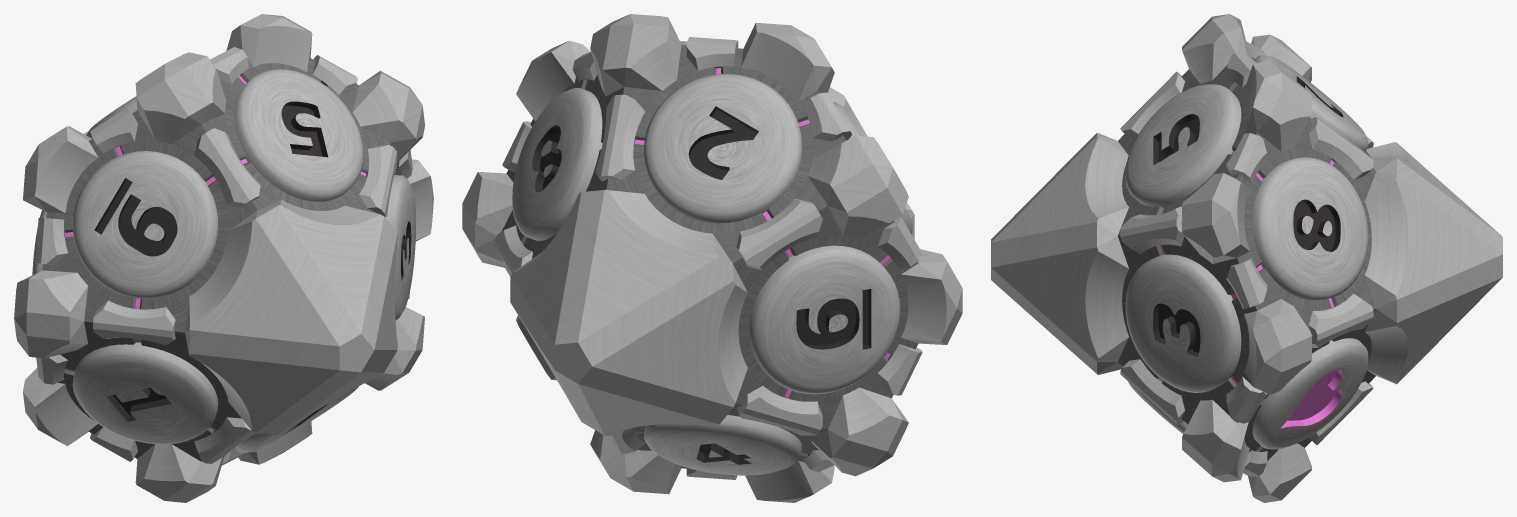
File: wcube_d10.glb
3 renders of one model, left to right at view 1: azimuth 30°, elevation 25°; view 2: azimuth 150°, elevation 25°; view 3: azimuth 270°, elevation 25°, orthographic. The views are drawn at different scales.
Visible parts, largest first — view 1: d10_heart.001; view 2: d10_heart.001; view 3: d10_heart.001.
Part boxes in pixels (x1,y1,x2,y2): d10_heart.001: (14, 14, 433, 502); d10_heart.001: (462, 14, 962, 502); d10_heart.001: (991, 14, 1502, 502).
Bounding box in the file's own units: 184 × 175 × 191.
Materials: 1 (1 with a texture image).
